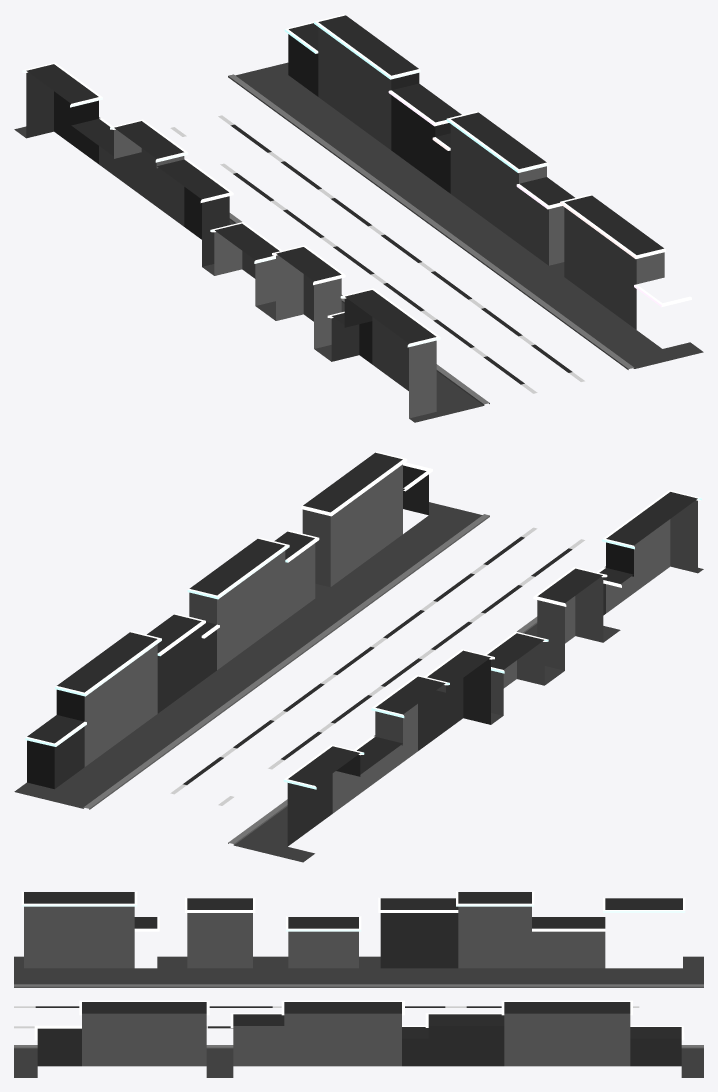
The model's file is Road+Night.glb.
3 renders of one model, top to bottom at view 1: azimuth 30°, elevation 25°; view 2: azimuth 150°, elevation 25°; view 3: azimuth 270°, elevation 25°, orthographic. The views are drawn at different scales.
Visible parts, largest first — view 1: road; view 2: road; view 3: road.
Part boxes in pixels (box(x1,y1,x2,y2)): road: box(14, 14, 703, 422); road: box(14, 451, 703, 862); road: box(14, 891, 703, 1077).
Bounding box in the file's own units: 4203 × 1030 × 10000.
